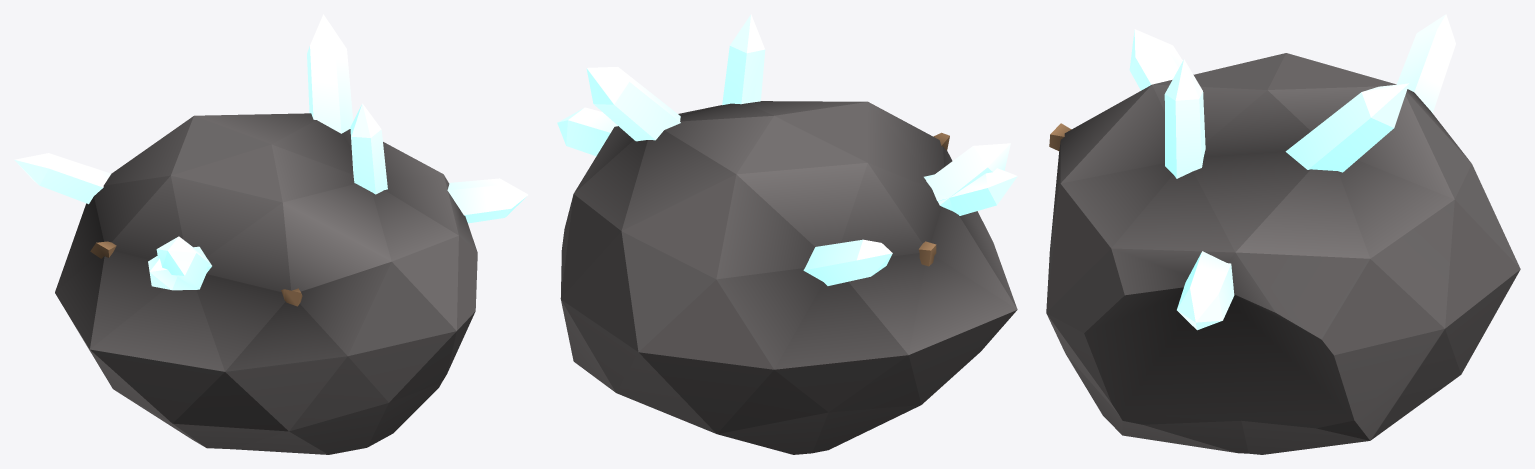
Rendered from obj_oficio_veta_3.glb.
3 views of the same model, side by side, from view 1: azimuth 30°, elevation 25°; view 2: azimuth 150°, elevation 25°; view 3: azimuth 270°, elevation 25° (orthographic). The views are drawn at different scales.
Parts seen in each view (by area): view 1: propforge-libre-oficio_veta; view 2: propforge-libre-oficio_veta; view 3: propforge-libre-oficio_veta.
Part boxes in pixels (x1,y1,x2,y2): propforge-libre-oficio_veta: (14, 14, 528, 454); propforge-libre-oficio_veta: (557, 14, 1017, 454); propforge-libre-oficio_veta: (1046, 14, 1520, 454).
Size of the model in its own units: 0.8615 by 0.6131 by 0.6911.
